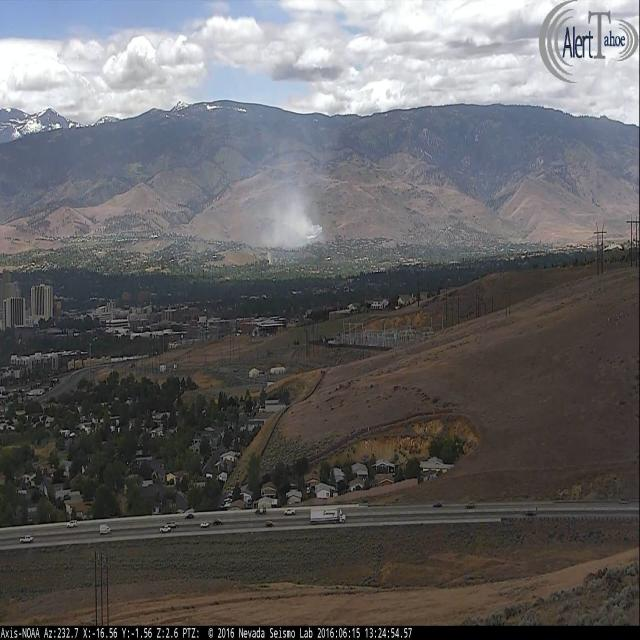smoke: (262, 185, 323, 243)
